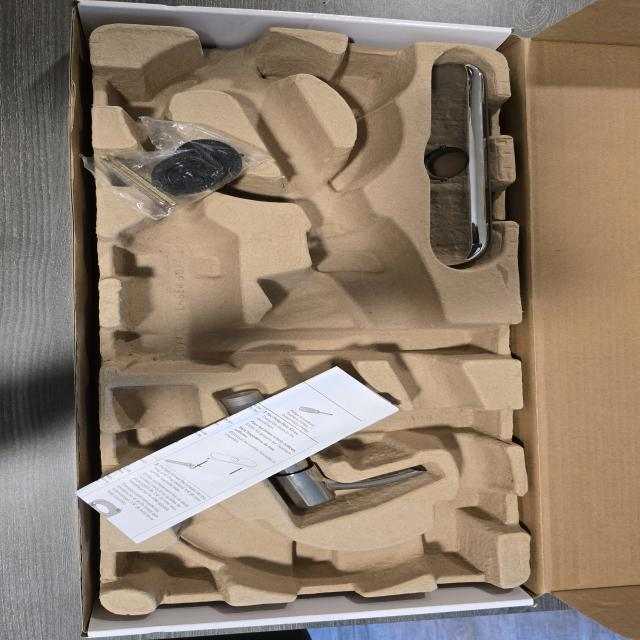1m: (109, 32, 511, 596)
2o: (219, 390, 425, 509)
3m: (118, 189, 236, 373)
4: (424, 61, 491, 266)
5m: (334, 55, 406, 113)
6m: (105, 53, 202, 119)
7: (77, 115, 275, 223)
8: (73, 365, 400, 545)
